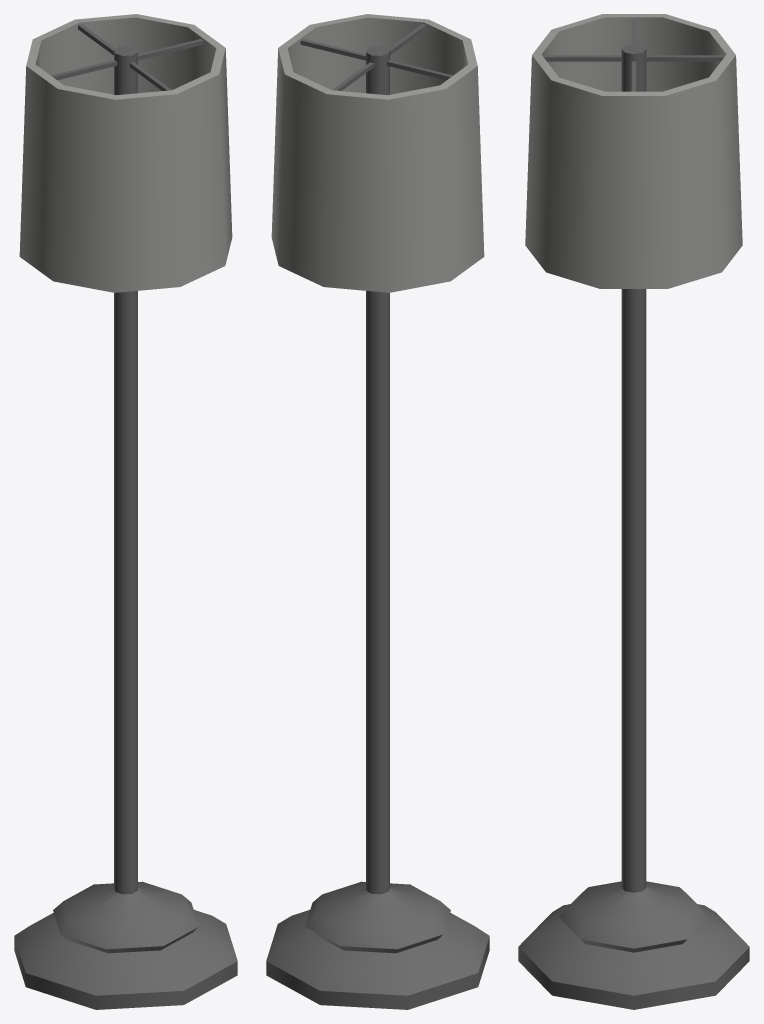
File: Light_Stand2.glb
3 renders of one model, left to right at view 1: azimuth 30°, elevation 25°; view 2: azimuth 150°, elevation 25°; view 3: azimuth 270°, elevation 25°, orthographic.
Visible parts, largest first — view 1: Light_Stand2; view 2: Light_Stand2; view 3: Light_Stand2.
Part boxes in pixels (x1,y1,x2,y2): Light_Stand2: [14, 14, 237, 1009]; Light_Stand2: [266, 14, 489, 1009]; Light_Stand2: [518, 14, 749, 1009].
Bounding box in the file's own units: 0.3314 × 1.44 × 0.3314.
Materials: 2 (2 with a texture image).
